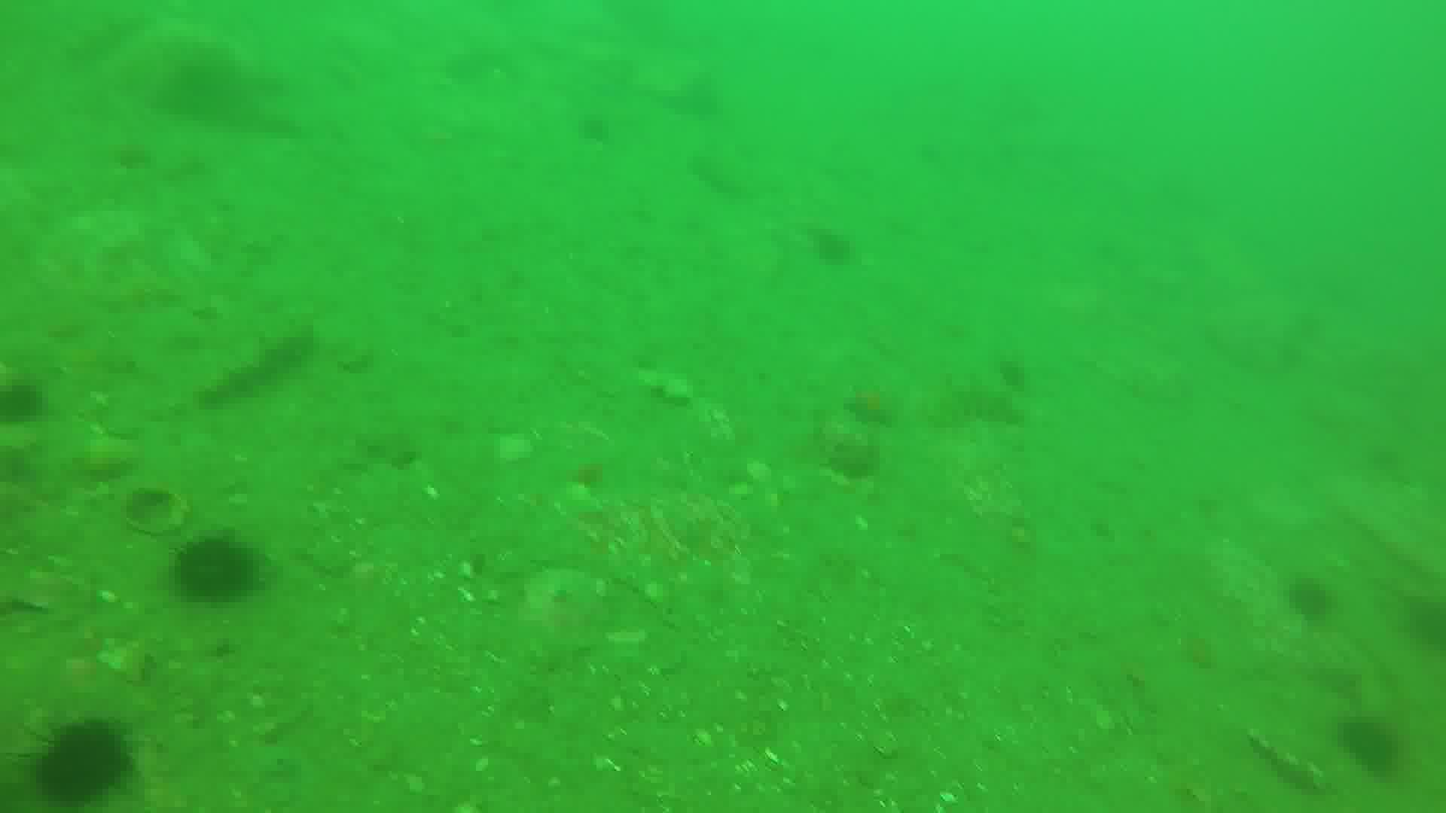echinus: (200, 325, 310, 412), (932, 382, 1033, 427)
holothurian: (840, 382, 901, 430)
starfish: (29, 724, 132, 811), (168, 528, 254, 607), (1338, 718, 1411, 781), (1286, 565, 1338, 626)
